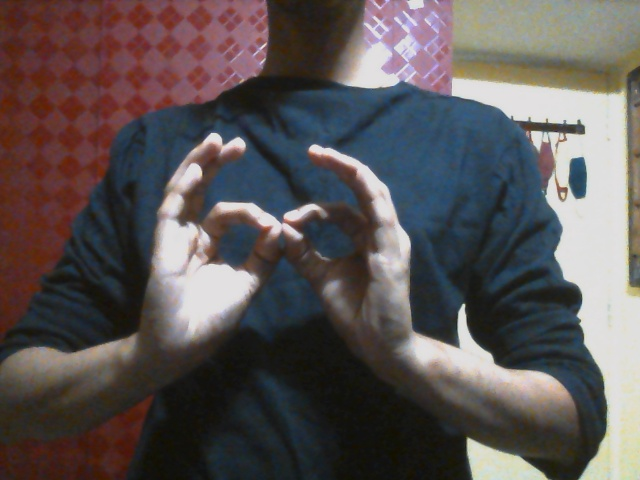B: (144, 132, 414, 374)
